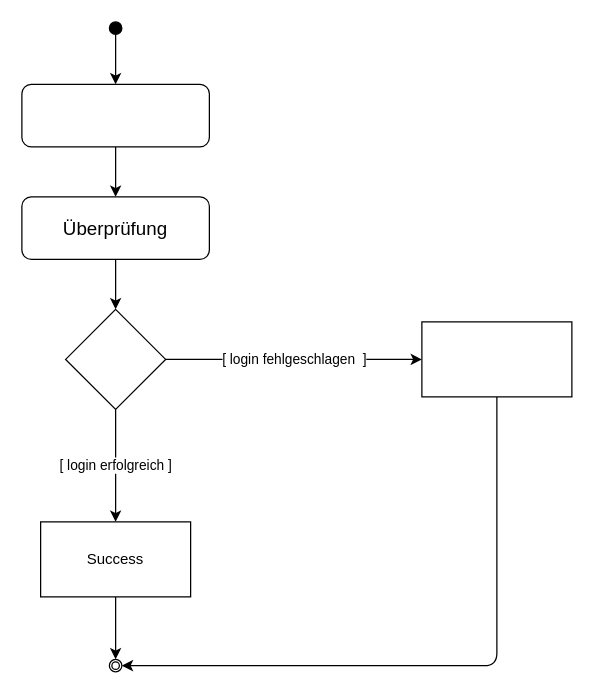
This 594x698 diagram has some shape labels left out. Each missing label, with the box of its shape:
Eingabe Daten: (21, 83, 209, 147)
Throw Exception: (421, 321, 572, 397)
